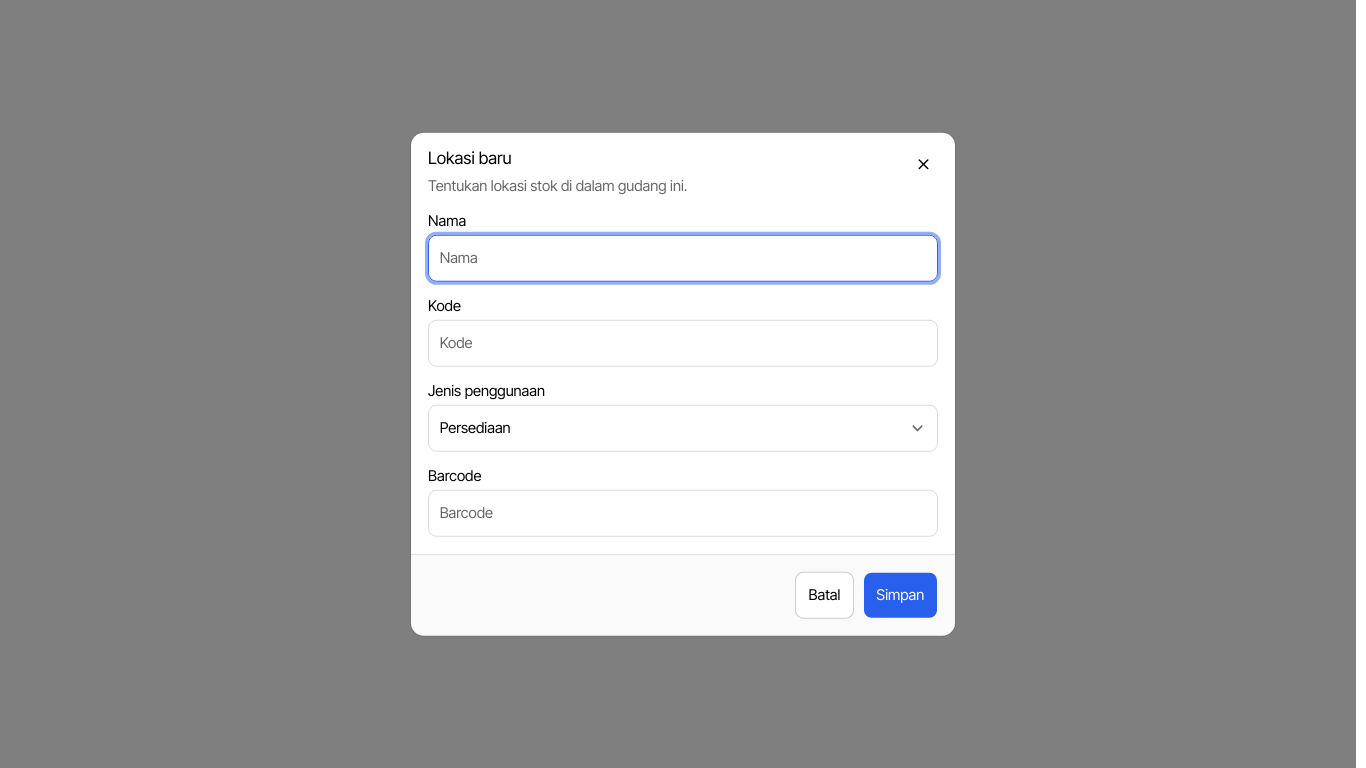
Test: LocationFormDialog branches2 › shows validation errors for the empty name branch
This screenshot has width=1366, height=768.
Click the button "Simpan": {"x": 900, "y": 595} [863,572,938,618]
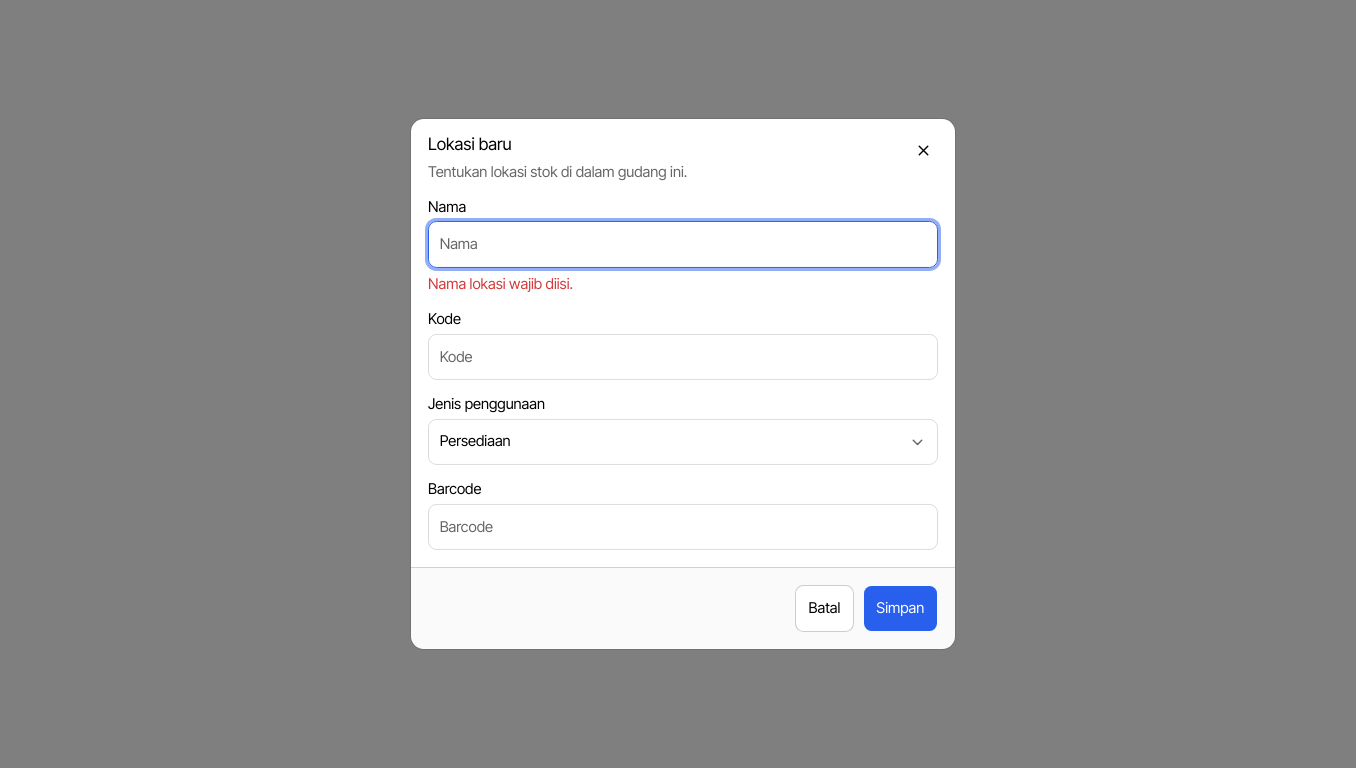
Check: the text "Nama lokasi wajib diisi." is shown, box [428,275,573,293]
